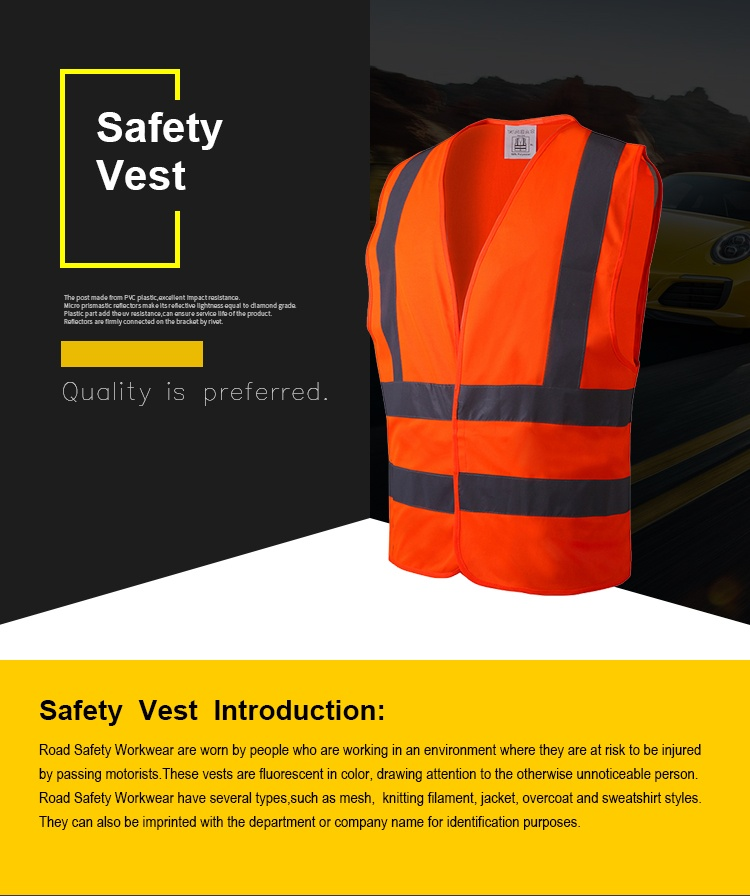safety vest: (363, 118, 652, 596)
